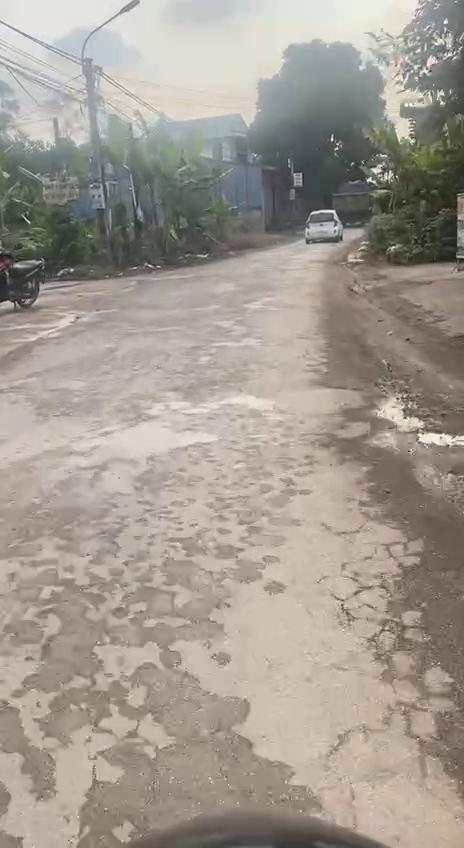pothole: (332, 542, 464, 784), (375, 388, 464, 450)
